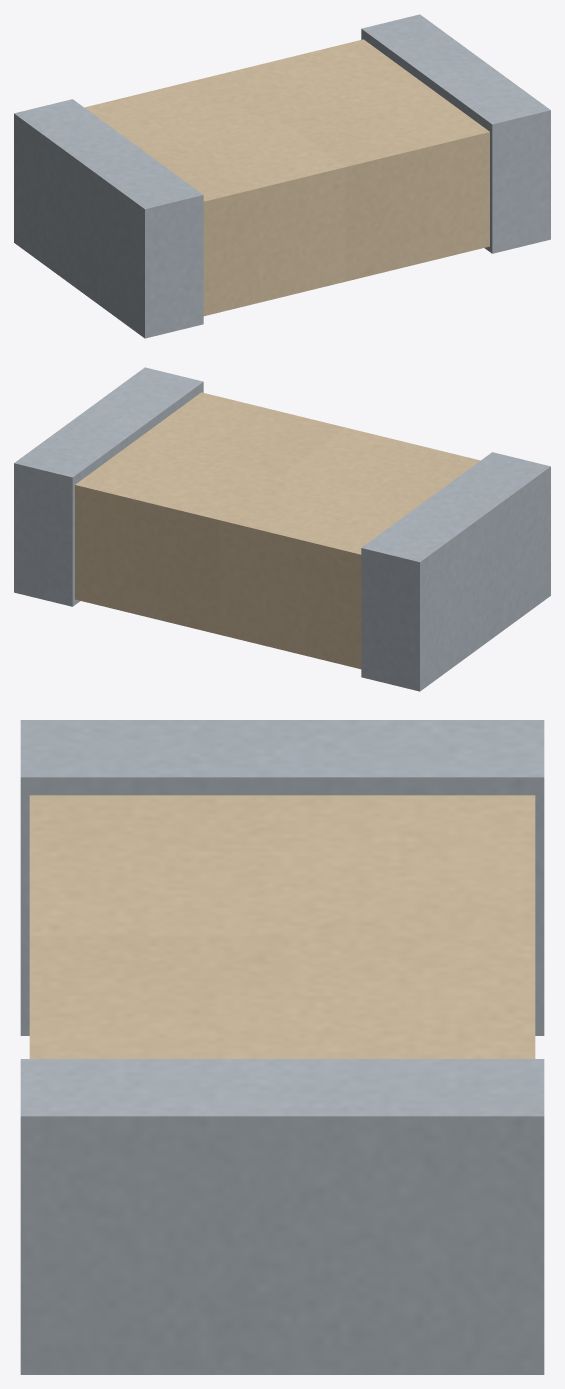
3 renders of one model, top to bottom at view 1: azimuth 30°, elevation 25°; view 2: azimuth 150°, elevation 25°; view 3: azimuth 270°, elevation 25°, orthographic. The views are drawn at different scales.
Parts seen in each view (by area): view 1: __PSMAT__Ceramic_Ivory, __PSMAT__Tin_Solder; view 2: __PSMAT__Ceramic_Ivory, __PSMAT__Tin_Solder; view 3: __PSMAT__Tin_Solder, __PSMAT__Ceramic_Ivory.
Part boxes in pixels (bbox=[...]): __PSMAT__Ceramic_Ivory: bbox=[84, 39, 489, 316]; __PSMAT__Tin_Solder: bbox=[14, 14, 550, 338]; __PSMAT__Ceramic_Ivory: bbox=[75, 392, 480, 669]; __PSMAT__Tin_Solder: bbox=[14, 367, 550, 691]; __PSMAT__Tin_Solder: bbox=[20, 720, 544, 1374]; __PSMAT__Ceramic_Ivory: bbox=[29, 795, 535, 1058].
Size of the model in its own units: 0.00519 by 0.00158 by 0.0029.
Materials: 2 (2 with a texture image).
